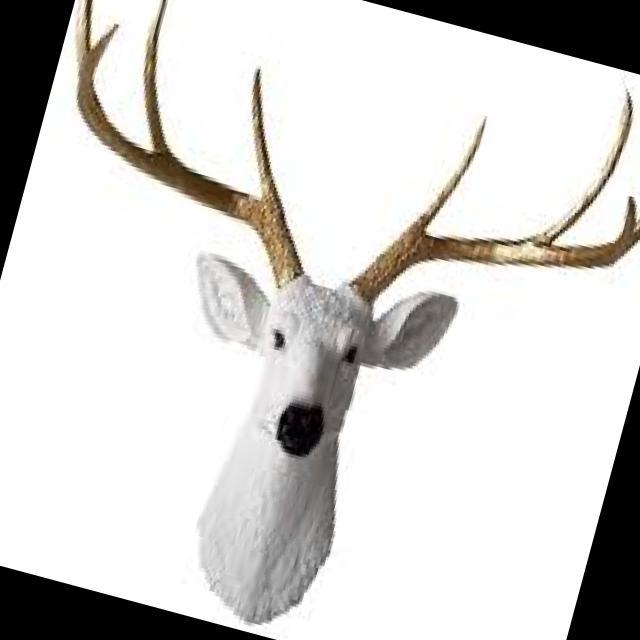L-F: (347, 194, 637, 304)
L-G1: (413, 115, 487, 234)
L-G2: (533, 87, 634, 246)
R-F: (76, 21, 304, 294)
R-G1: (251, 65, 280, 201)
R-G2: (143, 0, 173, 155)
